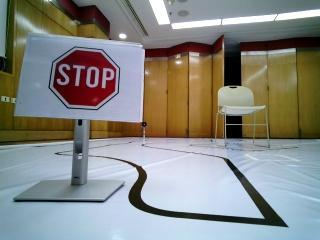stop: (39, 39, 131, 116)
